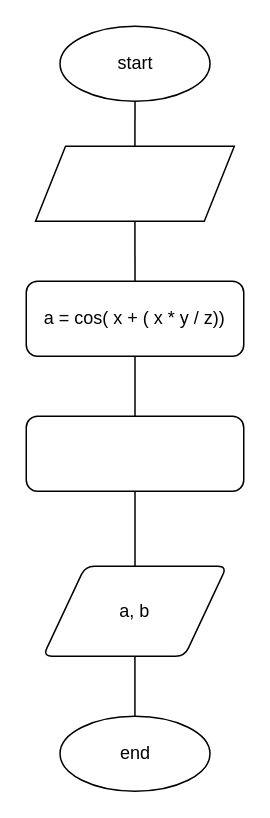
This 270x818 diagram has some shape labels left out. Each missing label, with the centre of its shape:
"b = x^3 / cos(a)" belongs at [134,453].
"x, y, z є R" belongs at [134,183].
